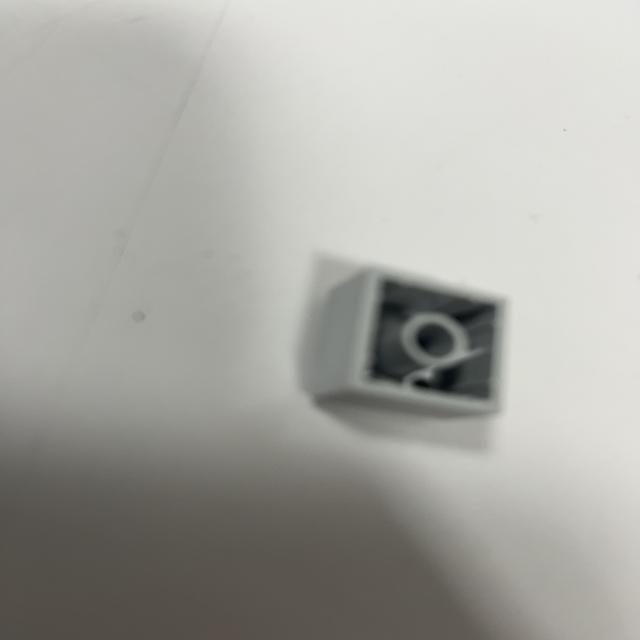C2x2x1: (305, 262, 507, 424)
